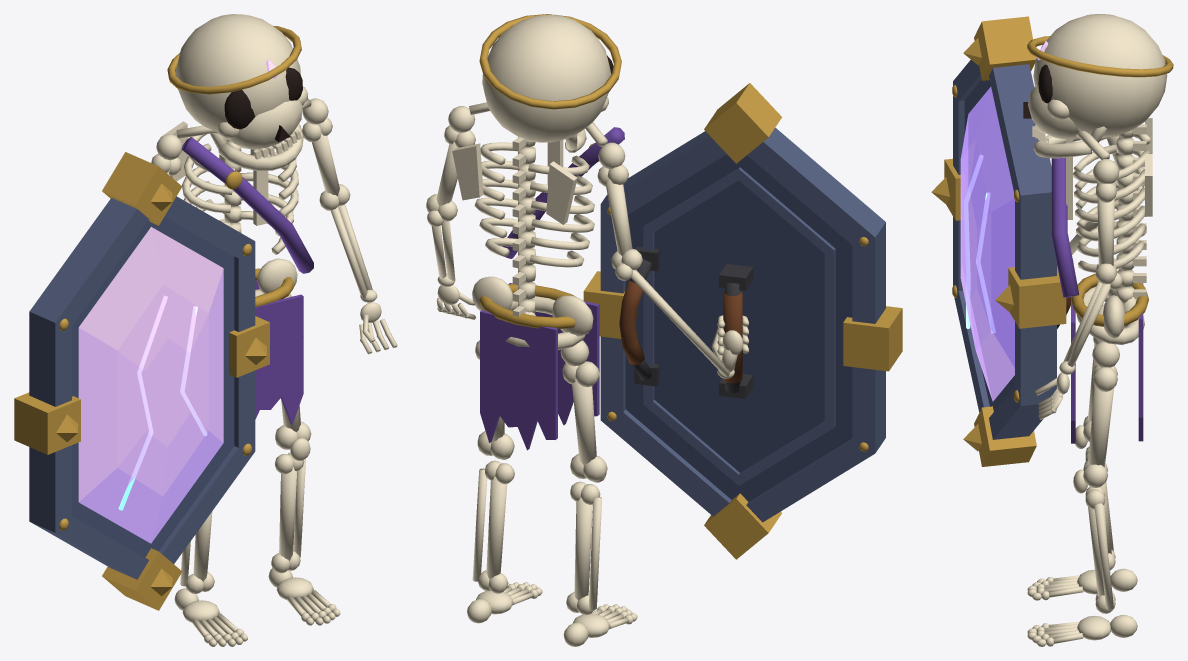
The model's file is prismwatch_guardian.glb.
The picture shows the model from 3 angles, left to right: view 1: azimuth 30°, elevation 25°; view 2: azimuth 150°, elevation 25°; view 3: azimuth 270°, elevation 25°; orthographic projection. The views are drawn at different scales.
Visible parts, largest first — view 1: Shield, Head, Torso, RightLeg, RightArm, LeftLeg, LeftArm; view 2: Shield, Torso, Head, LeftLeg, RightLeg, LeftArm, RightArm; view 3: Shield, Head, Torso, RightLeg, RightArm, LeftLeg, LeftArm.
Boxes of the visible parts, <box> form: Shield: <box>14,152,269,610</box>; Head: <box>167,14,308,170</box>; Torso: <box>160,98,313,424</box>; RightLeg: <box>268,400,340,625</box>; RightArm: <box>302,98,397,354</box>; LeftLeg: <box>174,511,247,646</box>; LeftArm: <box>151,134,182,175</box>; Shield: <box>583,83,902,559</box>; Torso: <box>452,102,624,450</box>; Head: <box>479,14,621,152</box>; LeftLeg: <box>560,340,637,646</box>; RightLeg: <box>467,340,542,623</box>; LeftArm: <box>597,142,748,378</box>; RightArm: <box>426,106,475,319</box>; Shield: <box>931,16,1073,466</box>; Head: <box>1023,14,1173,158</box>; Torso: <box>1051,118,1152,443</box>; RightLeg: <box>1027,341,1137,646</box>; RightArm: <box>1035,159,1122,419</box>; LeftLeg: <box>1027,304,1137,600</box>; LeftArm: <box>1069,136,1144,254</box>.
Size of the model in its own units: 1.18 by 1.64 by 0.607.
